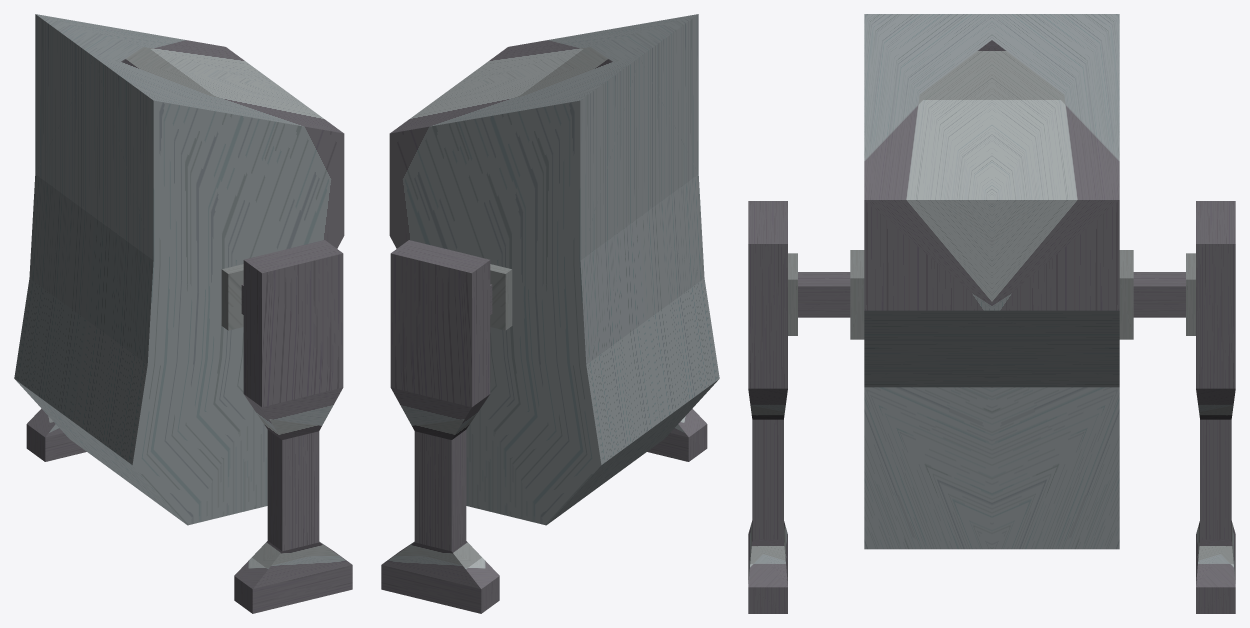
File: collider 1.fbx
3 renders of one model, left to right at view 1: azimuth 30°, elevation 25°; view 2: azimuth 150°, elevation 25°; view 3: azimuth 270°, elevation 25°, orthographic. The views are drawn at different scales.
Parts seen in each view (by area): view 1: Cube; view 2: Cube; view 3: Cube.
Boxes of the visible parts, x1,y1,x2,y2 form: Cube: (14, 14, 352, 613); Cube: (381, 14, 719, 613); Cube: (748, 14, 1235, 613).
Size of the model in its own units: 413 by 905 by 764.
